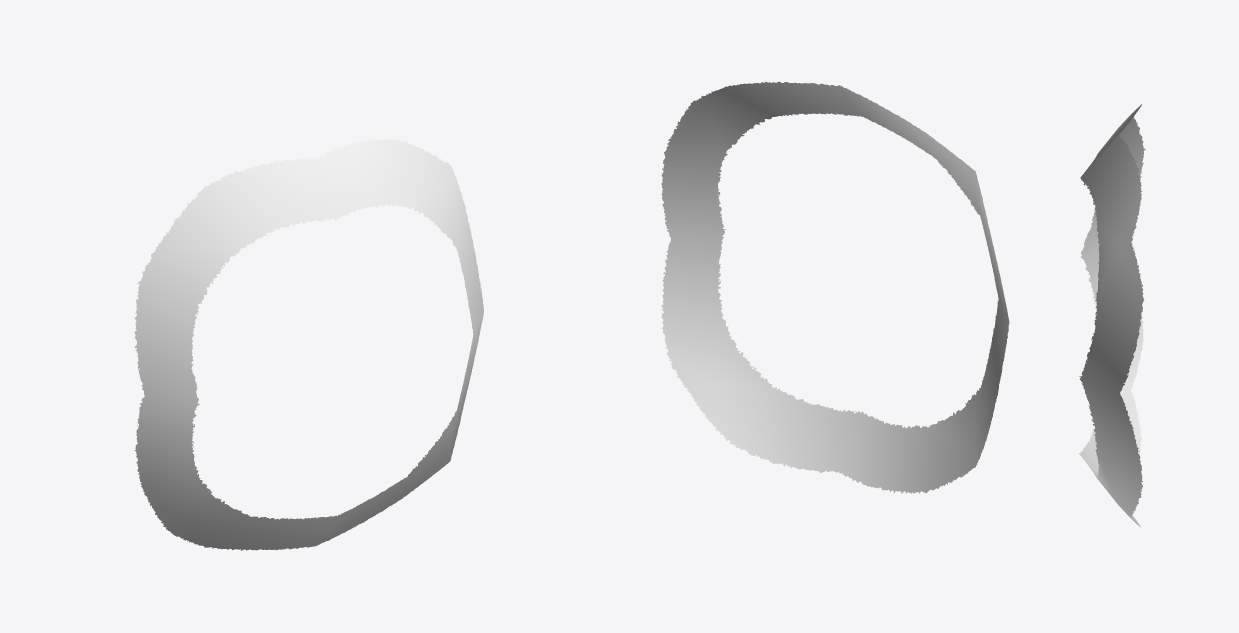
Rendered from speed_up.obj.
3 renders of one model, left to right at view 1: azimuth 30°, elevation 25°; view 2: azimuth 150°, elevation 25°; view 3: azimuth 270°, elevation 25°, orthographic. The views are drawn at different scales.
Parts seen in each view (by area): view 1: Plane001; view 2: Plane001; view 3: Plane001.
Boxes of the visible parts, bbox=[...] form: Plane001: bbox=[134, 138, 483, 550]; Plane001: bbox=[660, 81, 1009, 493]; Plane001: bbox=[1079, 104, 1145, 527].
Size of the model in its own units: 100 by 116 by 30.03.
Materials: 1 (1 with a texture image).
